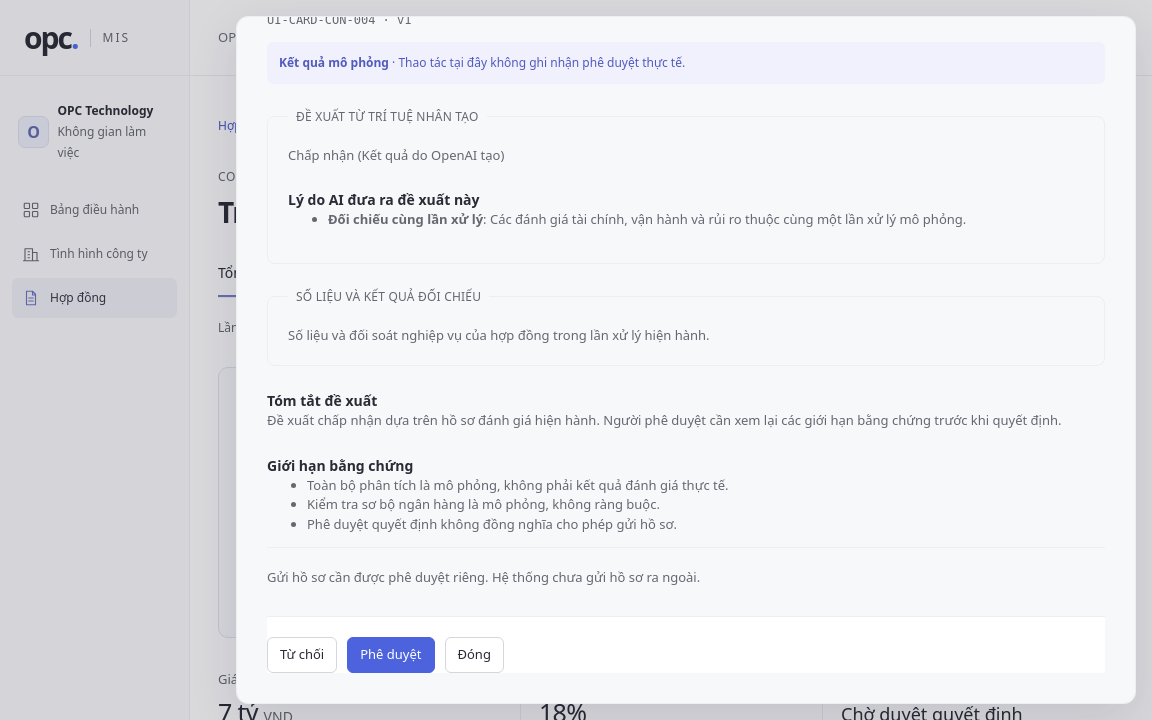
isolated executive preview › demo submit never mutates and prevents duplicate submission
The image size is (1152, 720).
(page scrolled)
Click the button "Phê duyệt" at (391, 654), box [347,636,434,672]
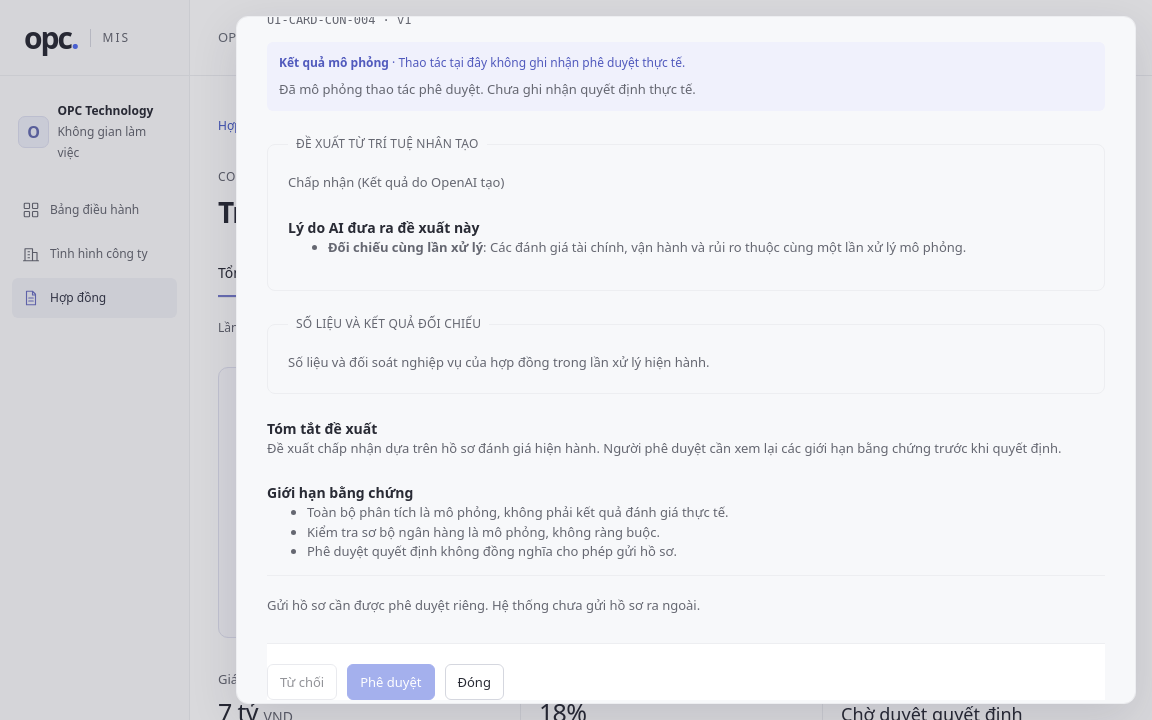
Expected: the dialog shows "Chưa ghi nhận quyết định thực tế", [279,80,696,98]
Expected: the button "Phê duyệt" is disabled, [347,664,434,700]
